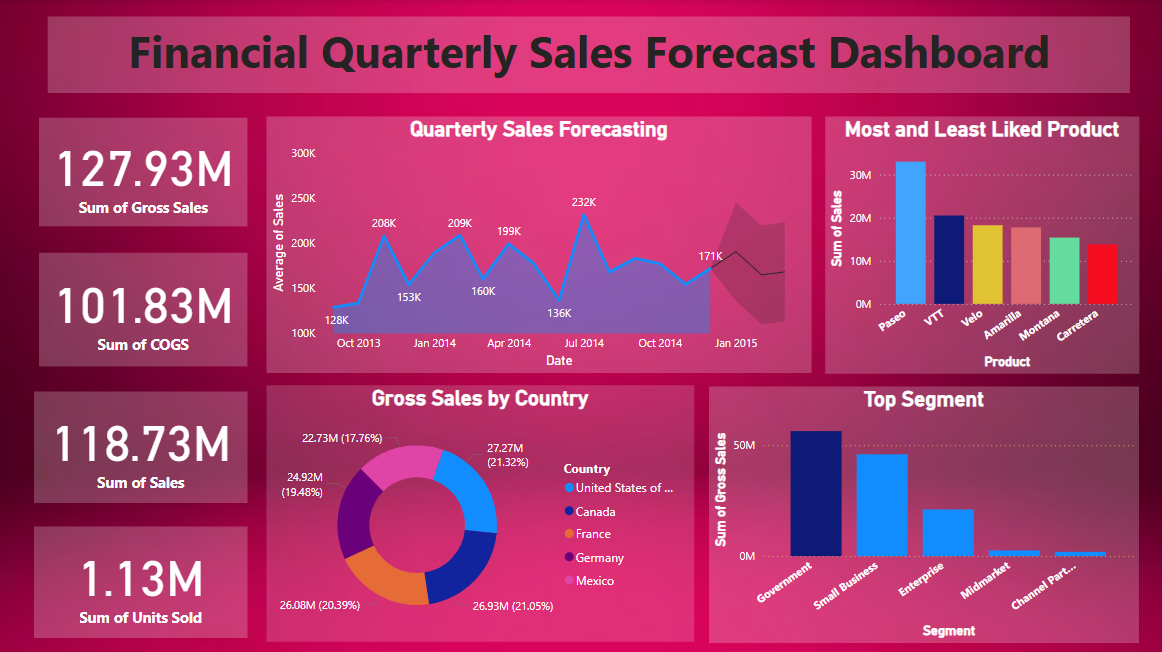

The page's visual inventory and layout, read from the dashboard file:
{"tool":"powerbi","page":{"name":"Page 1","canvas":[1280,720],"ordinal":0},"visuals":[{"type":"columnChart","title":"Most and Least Liked Product","fields":{"Y":["Sum(Sheet1.Sales)"],"Category":["Sheet1.Product"]},"box":[907,129,344.4,282.7],"z":0},{"type":"columnChart","title":"Top Segment","fields":{"Y":["Sum(Sheet1.Gross Sales)"],"Category":["Sheet1.Segment"]},"box":[779.4,425.4,472,281.3],"z":1000},{"type":"donutChart","title":"Gross Sales by Country","fields":{"Category":["Sheet1.Country"],"Y":["Sum(Sheet1.Gross Sales)"]},"box":[293.7,424,469.3,281.3],"z":2000},{"type":"lineChart","title":"Quarterly Sales Forecasting","fields":{"Y":["Avg(Sheet1.Sales)"],"Category":["Sheet1.Date"]},"box":[293.7,129,598.3,281.3],"z":3000},{"type":"card","fields":{"Values":["Sum(Sheet1.Gross Sales)"]},"box":[43.9,130.2,229,119.3],"z":4000},{"type":"card","fields":{"Values":["Sum(Sheet1.Units Sold)"]},"box":[38.4,578.6,234.4,122],"z":5000},{"type":"card","fields":{"Values":["Sum(Sheet1.COGS)"]},"box":[43.9,278.3,229,124.8],"z":6000},{"type":"card","fields":{"Values":["Sum(Sheet1.Sales)"]},"box":[38.4,430.5,234.4,122],"z":7000},{"type":"textbox","box":[53.5,19.2,1188.3,83.7],"z":8000}]}

Visuals, with their boxes in screenshot pixels (x1, y1, x2, y2), scaled from the page's 1280x720 canvas onto the 1162x652 screenshot:
"Most and Least Liked Product" columnChart: {"x1": 823, "y1": 117, "x2": 1136, "y2": 373}
"Top Segment" columnChart: {"x1": 708, "y1": 385, "x2": 1136, "y2": 640}
"Gross Sales by Country" donutChart: {"x1": 267, "y1": 384, "x2": 693, "y2": 639}
"Quarterly Sales Forecasting" lineChart: {"x1": 267, "y1": 117, "x2": 810, "y2": 372}
card - Sum(Sheet1.Gross Sales): {"x1": 40, "y1": 118, "x2": 248, "y2": 226}
card - Sum(Sheet1.Units Sold): {"x1": 35, "y1": 524, "x2": 248, "y2": 634}
card - Sum(Sheet1.COGS): {"x1": 40, "y1": 252, "x2": 248, "y2": 365}
card - Sum(Sheet1.Sales): {"x1": 35, "y1": 390, "x2": 248, "y2": 500}
textbox: {"x1": 49, "y1": 17, "x2": 1127, "y2": 93}
